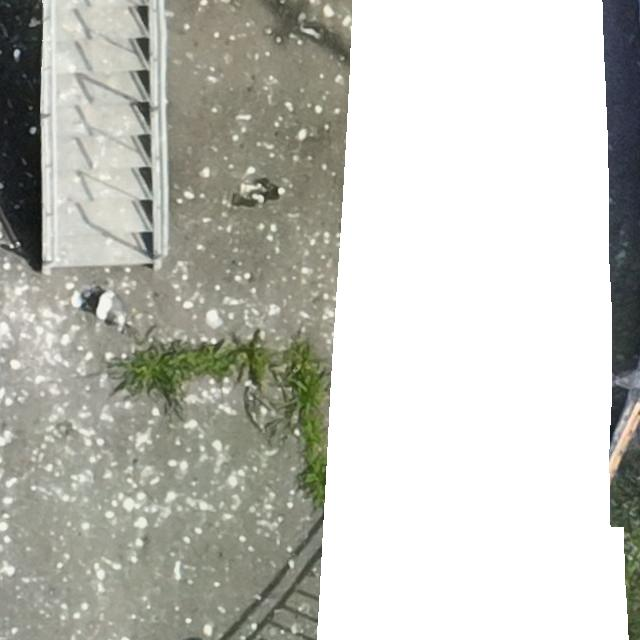umineko: (92, 291, 130, 326)
